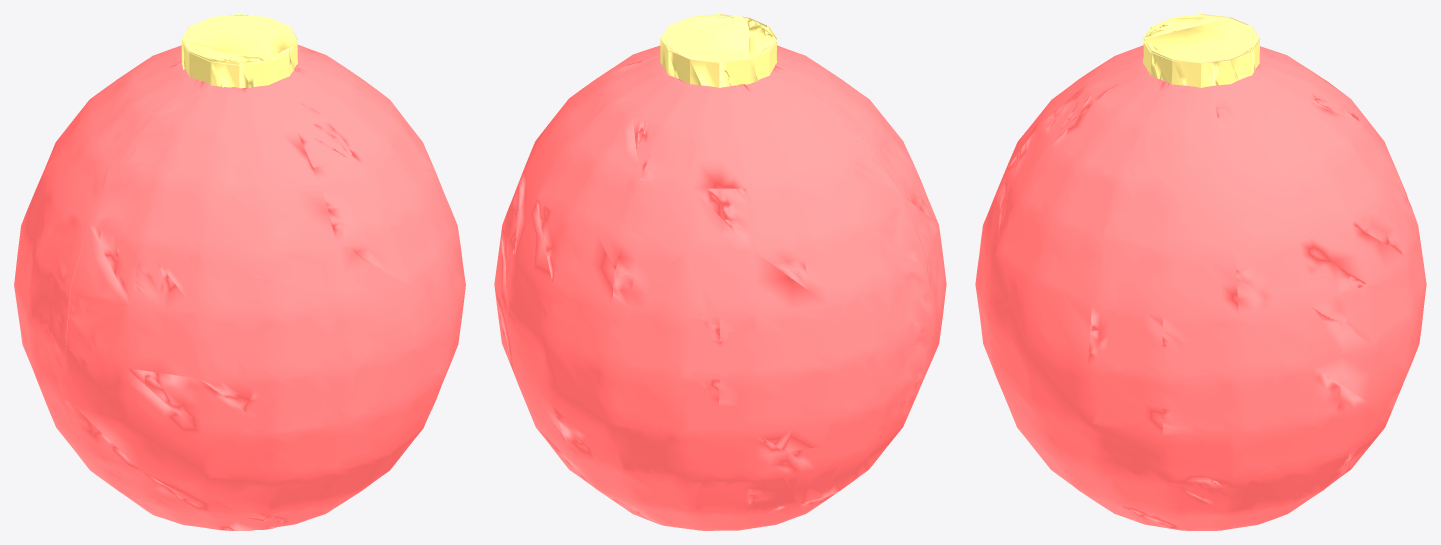
File: ornament.glb
3 views of the same model, side by side, from view 1: azimuth 30°, elevation 25°; view 2: azimuth 150°, elevation 25°; view 3: azimuth 270°, elevation 25° (orthographic).
Visible parts, largest first — view 1: Ornament; view 2: Ornament; view 3: Ornament.
Part boxes in pixels (x1,y1,x2,y2): Ornament: (14, 14, 465, 530); Ornament: (494, 14, 946, 530); Ornament: (975, 14, 1426, 530).
Bounding box in the file's own units: 1.97 × 2.33 × 1.99.
